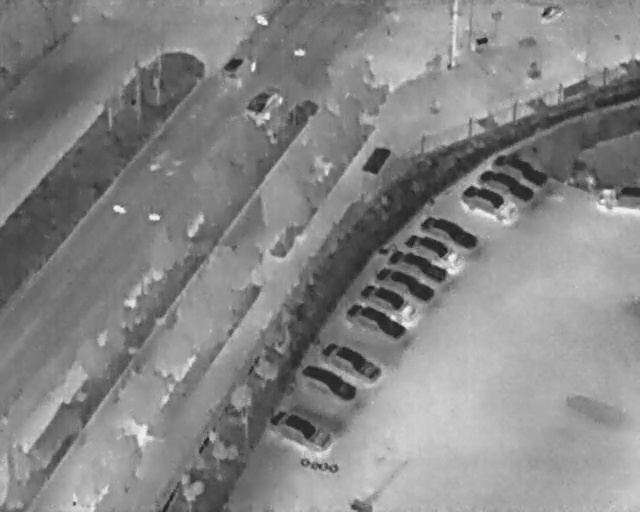Car: (266, 403, 338, 455), (319, 335, 387, 386), (343, 295, 411, 346), (297, 357, 363, 406), (455, 179, 521, 228), (384, 243, 453, 289), (372, 259, 438, 307), (357, 276, 420, 325), (401, 227, 468, 273), (417, 208, 484, 254), (475, 161, 539, 207), (490, 145, 552, 190), (238, 79, 288, 131), (214, 45, 258, 92), (593, 183, 640, 213)
